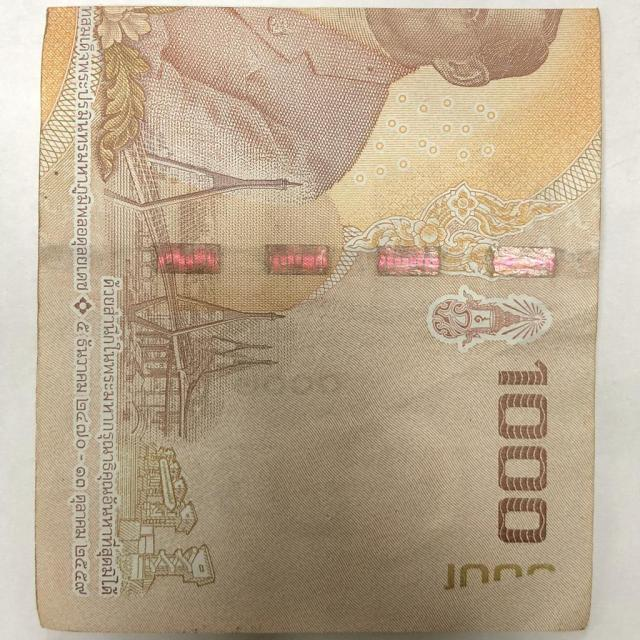THAI1000: (36, 6, 602, 632)
